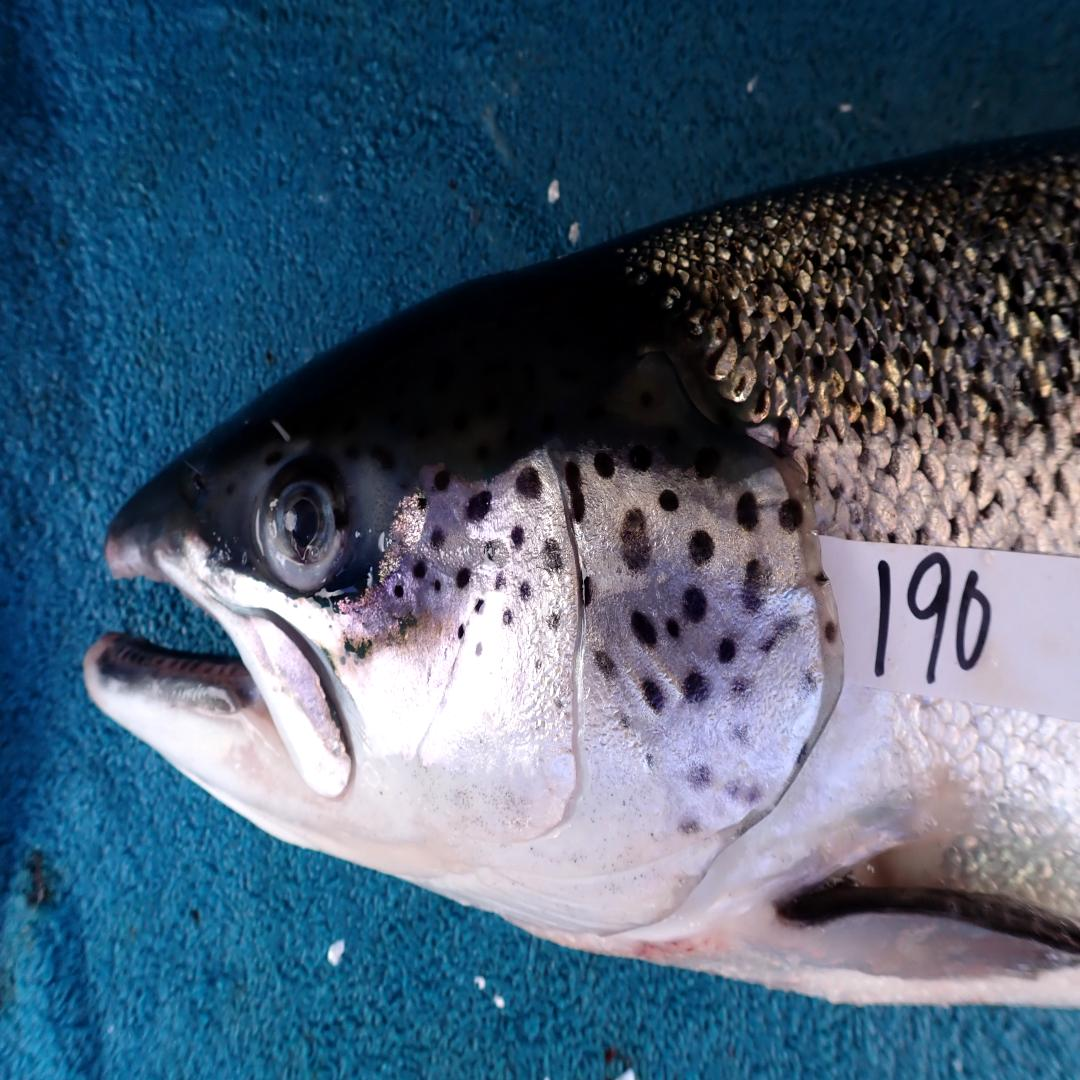roi: (343, 447, 831, 949)
